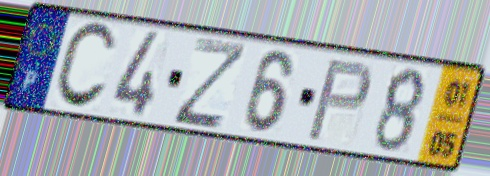4: (110, 29, 160, 119)
6: (243, 48, 297, 136)
8: (371, 66, 430, 154)
C: (50, 19, 119, 113)
P: (303, 57, 375, 144)
Z: (169, 34, 252, 132)
